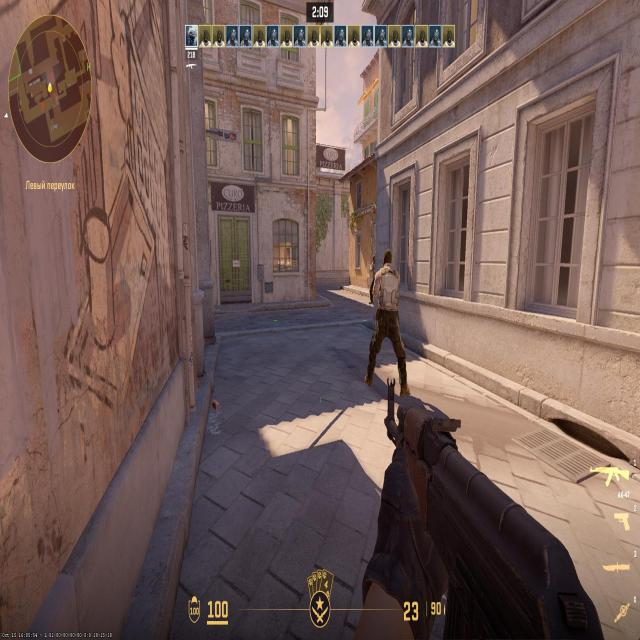T: (378, 249, 402, 374)
T_heat: (384, 262, 394, 286)
